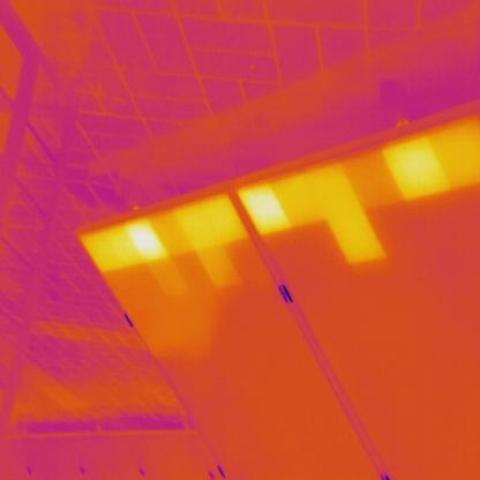fault: (392, 149, 446, 194), (245, 182, 280, 228), (126, 219, 167, 258)
